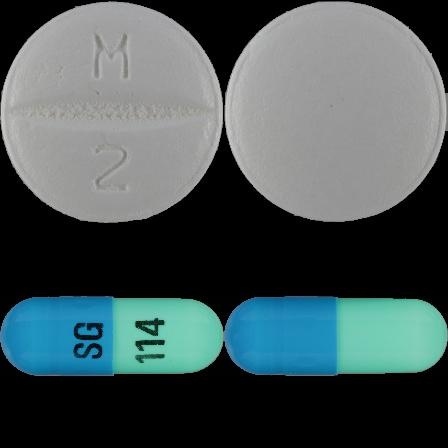68788-6787: (0, 0, 224, 224)
